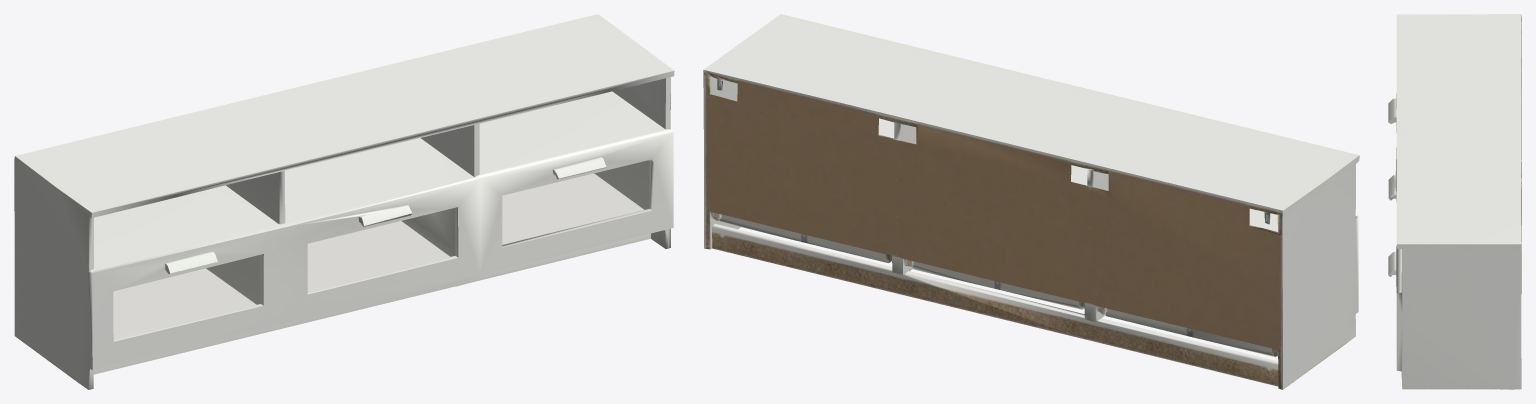
File: brimnes-mueble-tv-blanco.glb
The picture shows the model from 3 angles, left to right: view 1: azimuth 30°, elevation 25°; view 2: azimuth 150°, elevation 25°; view 3: azimuth 270°, elevation 25°; orthographic projection. The views are drawn at different scales.
Visible parts, largest first — view 1: model; view 2: model; view 3: model.
Boxes of the visible parts, x1,y1,x2,y2 form: model: (14, 14, 674, 389); model: (703, 14, 1359, 389); model: (1388, 14, 1521, 389).
Bounding box in the file's own units: 1.8 × 0.5357 × 0.4423.
2 materials, 2 textured.
